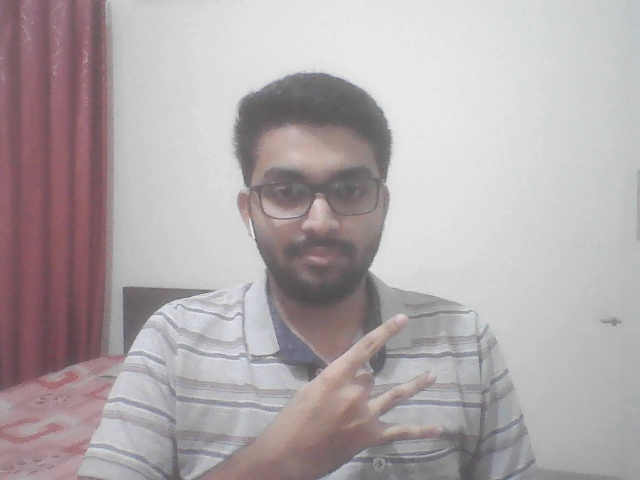like: (223, 312, 463, 473)
